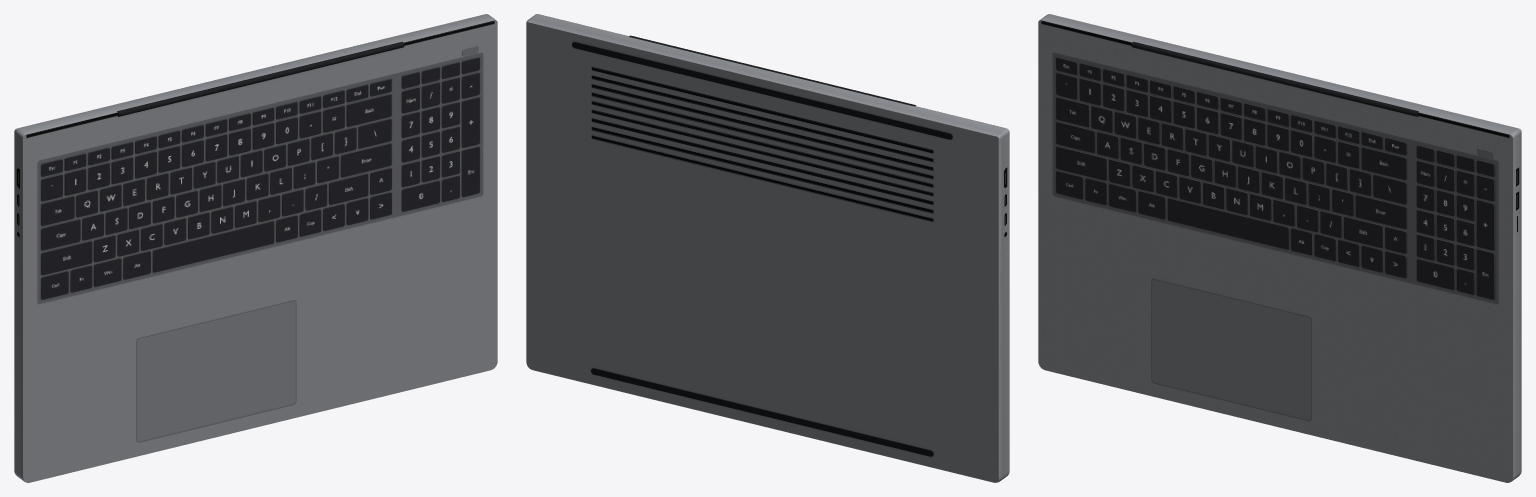
The model's file is body.obj.
3 renders of one model, left to right at view 1: azimuth 30°, elevation 25°; view 2: azimuth 150°, elevation 25°; view 3: azimuth 330°, elevation 25°, orthographic.
Parts seen in each view (by area): view 1: deck, keys, base.002, base.003, hinge; view 2: base.004, base.002, base.005, base.003, hinge; view 3: deck, keys, base.002, base.001, hinge.
Part boxes in pixels (left/top/right/bottom): deck: left=23, top=20, right=497, bottom=482; keys: left=41, top=46, right=479, bottom=299; base.002: left=15, top=14, right=496, bottom=135; base.003: left=14, top=130, right=24, bottom=481; hinge: left=117, top=41, right=404, bottom=116; base.004: left=526, top=22, right=998, bottom=482; base.002: left=527, top=14, right=1008, bottom=137; base.005: left=572, top=42, right=952, bottom=456; base.003: left=997, top=130, right=1009, bottom=481; hinge: left=629, top=35, right=915, bottom=106; deck: left=1038, top=20, right=1512, bottom=482; keys: left=1056, top=57, right=1494, bottom=299; base.002: left=1039, top=14, right=1520, bottom=135; base.001: left=1511, top=130, right=1521, bottom=481; hinge: left=1131, top=41, right=1418, bottom=116.
Bounding box in the file's own units: 356 × 251 × 15.2.
8 materials, 6 textured.
